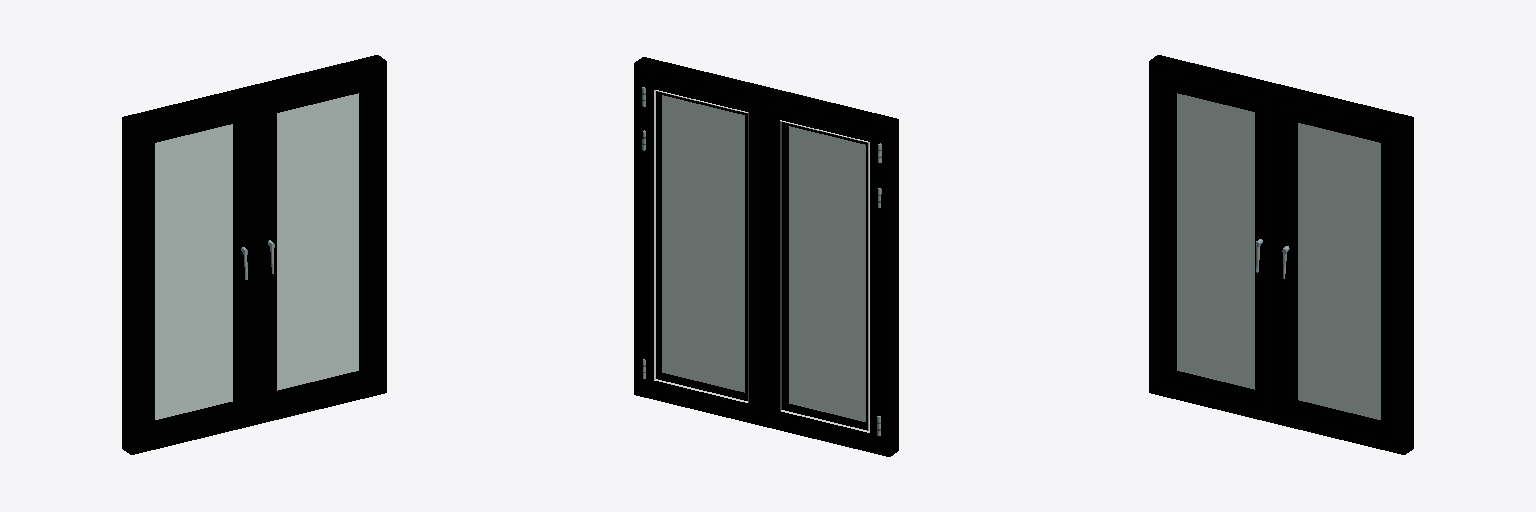
3 views of the same model, side by side, from view 1: azimuth 30°, elevation 25°; view 2: azimuth 150°, elevation 25°; view 3: azimuth 330°, elevation 25° (orthographic).
Visible parts, largest first — view 1: group[number redacted], group[number redacted], group[number redacted], group[number redacted], group[number redacted], group[number redacted], group[number redacted], group[number redacted], group[number redacted], group[number redacted], group[number redacted], group[number redacted] (+3 smaller); view 2: group[number redacted], group[number redacted], group[number redacted], group[number redacted], group[number redacted], group[number redacted], group[number redacted], group[number redacted], group[number redacted], group[number redacted], group[number redacted], group[number redacted] (+6 smaller); view 3: group[number redacted], group[number redacted], group[number redacted], group[number redacted], group[number redacted], group[number redacted], group[number redacted], group[number redacted], group[number redacted], group[number redacted], group[number redacted], group[number redacted] (+3 smaller).
Part boxes in pixels (x1,y1,x2,y2): group[number redacted]: (277, 93, 358, 390); group[number redacted]: (155, 124, 232, 419); group[number redacted]: (122, 117, 139, 454); group[number redacted]: (359, 74, 375, 386); group[number redacted]: (233, 105, 249, 406); group[number redacted]: (140, 128, 154, 440); group[number redacted]: (124, 55, 386, 131); group[number redacted]: (262, 98, 276, 400); group[number redacted]: (377, 63, 386, 385); group[number redacted]: (251, 101, 260, 420); group[number redacted]: (140, 384, 386, 452); group[number redacted]: (262, 371, 362, 411); group[number redacted]: (662, 95, 744, 392); group[number redacted]: (789, 126, 865, 421); group[number redacted]: (882, 117, 898, 456); group[number redacted]: (771, 107, 788, 405); group[number redacted]: (634, 57, 896, 131); group[number redacted]: (645, 76, 661, 385); group[number redacted]: (745, 100, 759, 401); group[number redacted]: (866, 130, 880, 442); group[number redacted]: (760, 98, 769, 422); group[number redacted]: (634, 72, 643, 396); group[number redacted]: (643, 387, 881, 454); group[number redacted]: (646, 373, 759, 413); group[number redacted]: (1298, 123, 1380, 419); group[number redacted]: (1177, 93, 1254, 389); group[number redacted]: (1396, 118, 1413, 454); group[number redacted]: (1160, 74, 1176, 386); group[number redacted]: (1281, 104, 1297, 405); group[number redacted]: (1381, 128, 1395, 440); group[number redacted]: (1150, 55, 1413, 129); group[number redacted]: (1255, 97, 1269, 398); group[number redacted]: (1149, 55, 1158, 394); group[number redacted]: (1270, 100, 1279, 419); group[number redacted]: (1157, 385, 1404, 454); group[number redacted]: (1281, 400, 1380, 437).
Size of the model in its own units: 2.13 by 2.64 by 0.2067.